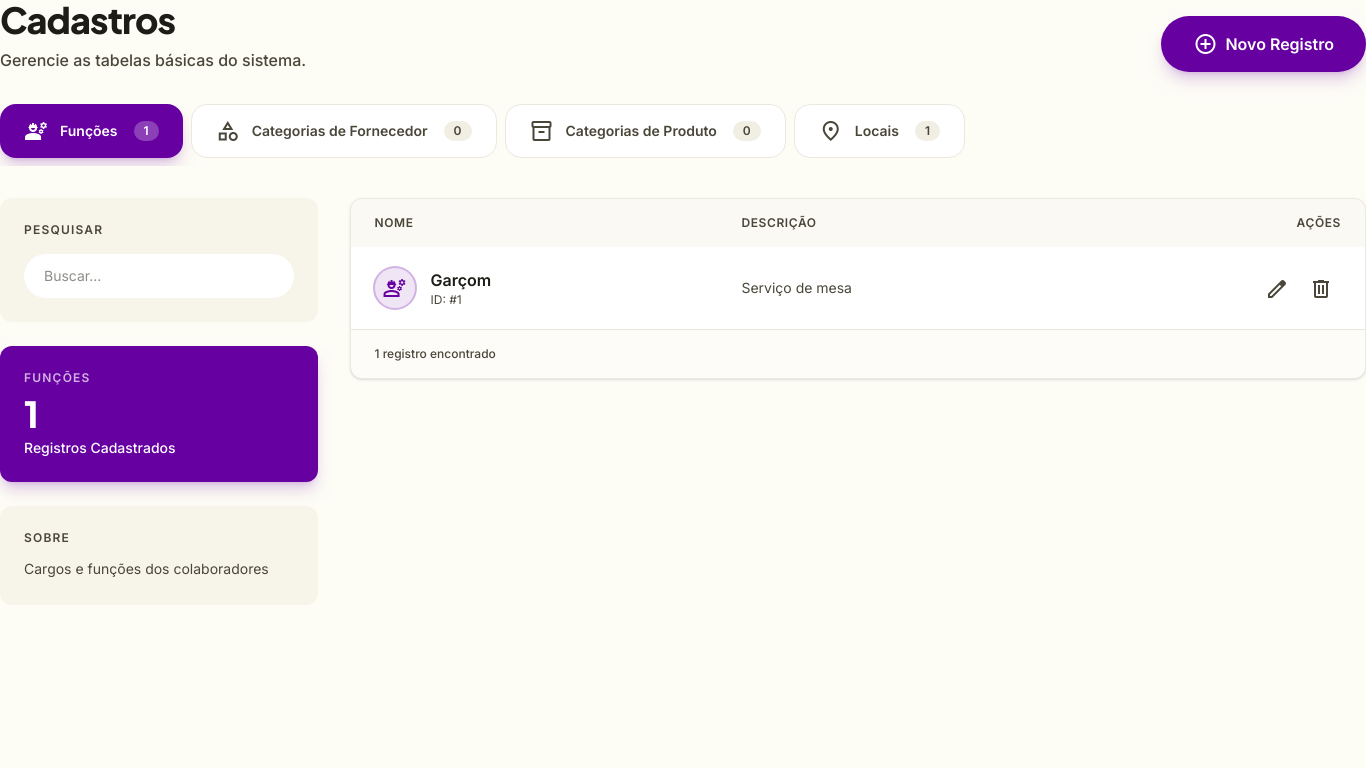
CadastrosPage — capacidadeMaxima › deve exibir campo "Capacidade Máxima" no formulário da aba Locais
Click the button "Locais 1". click: (879, 131)
box: [794,104,965,158]
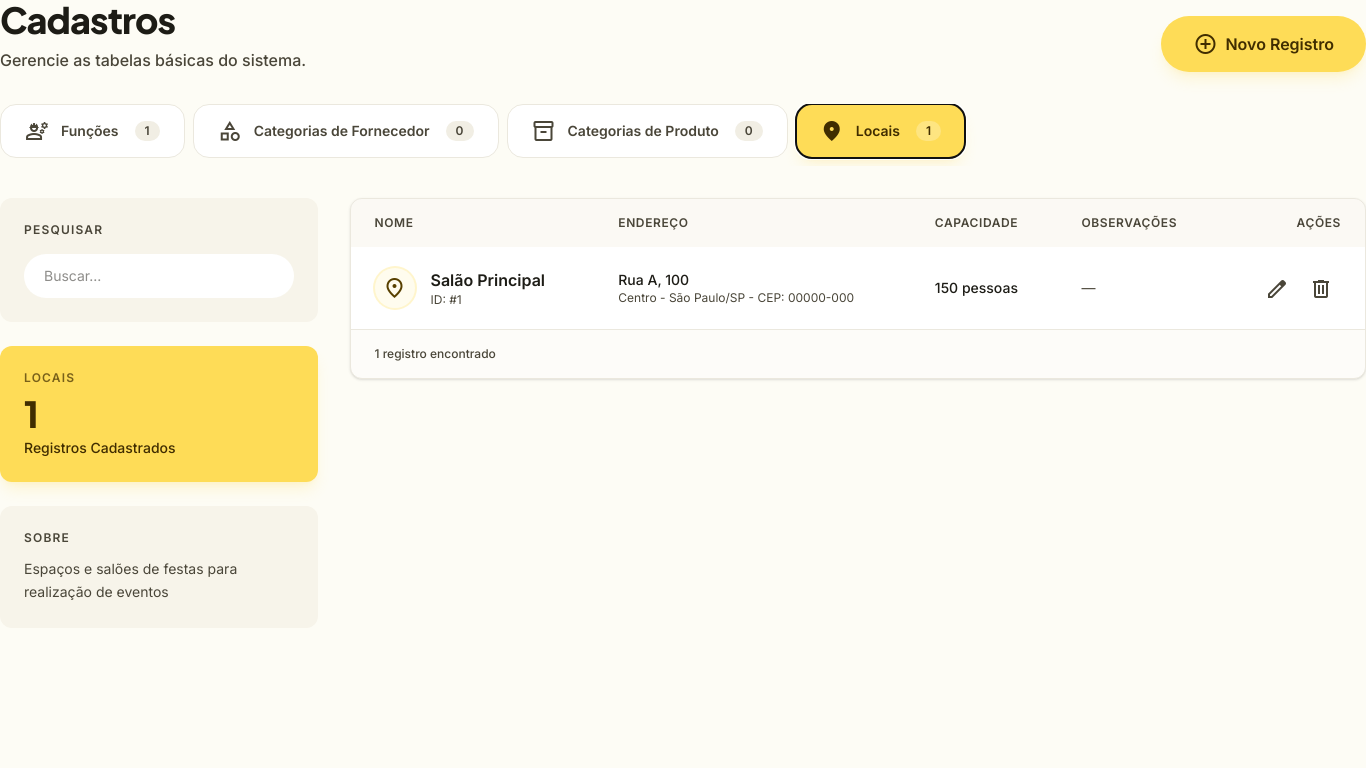
Click the button "Novo Registro". click: (1264, 44)
box: [1161,16,1365,72]
(page scrolled)
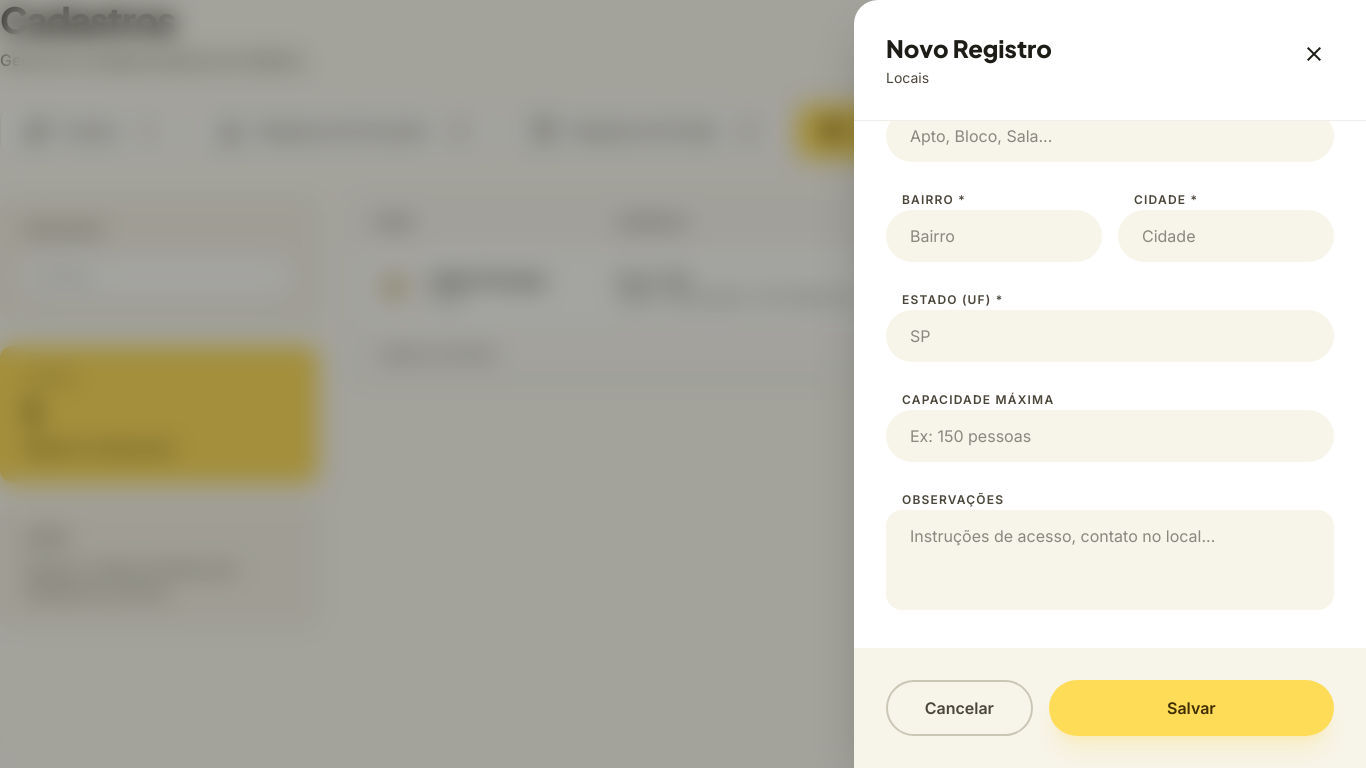
Check: the text "Capacidade Máxima" is shown, box [902,392,1054,407]
